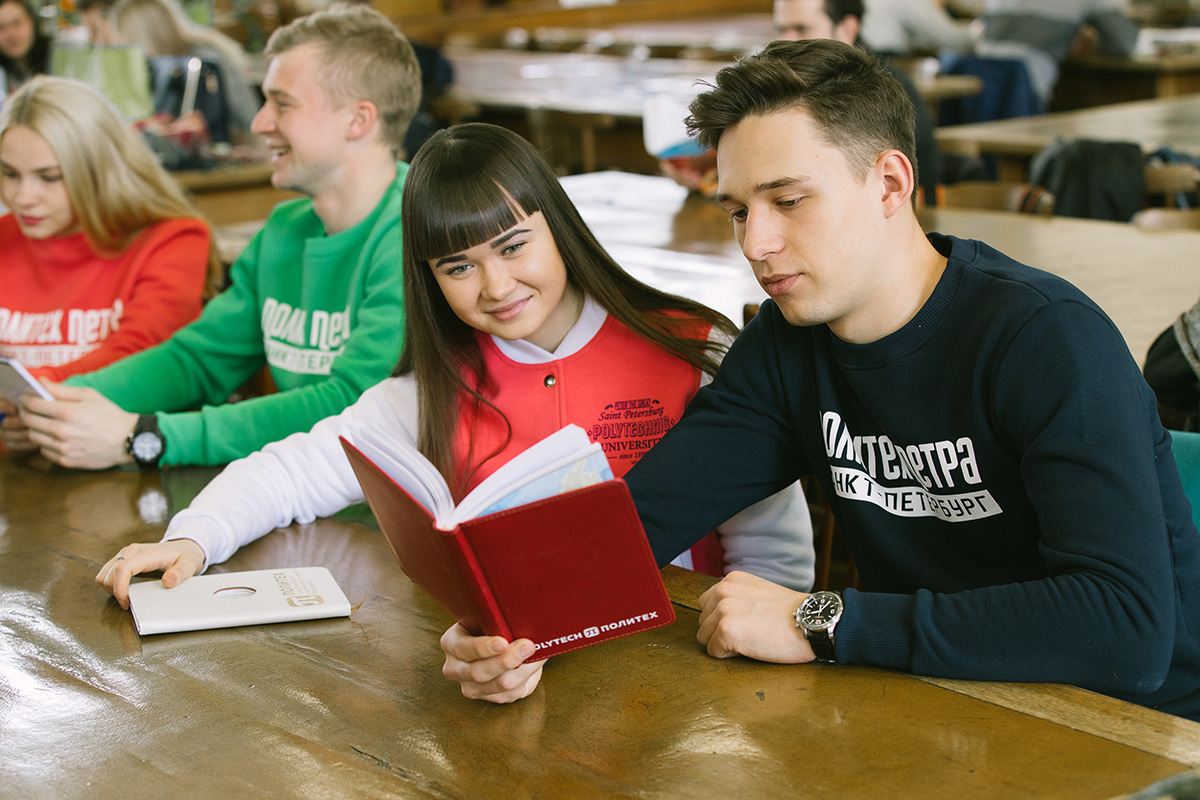students: (435, 38, 1186, 704), (98, 120, 822, 610), (4, 10, 422, 475), (3, 76, 210, 384), (768, 1, 939, 198), (106, 1, 257, 137), (1, 1, 57, 76)
